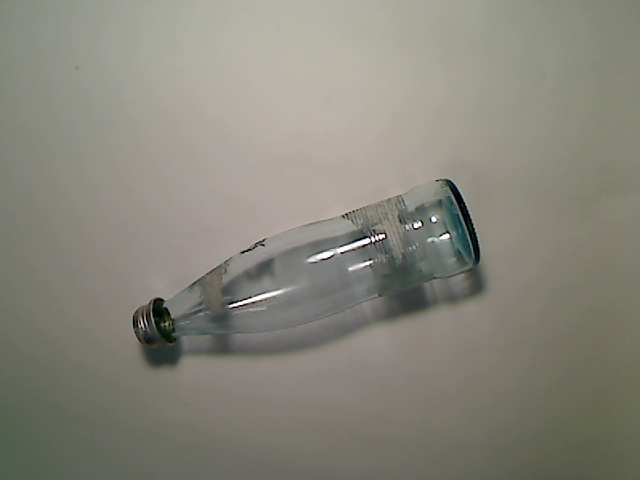bottle: (133, 175, 481, 348)
